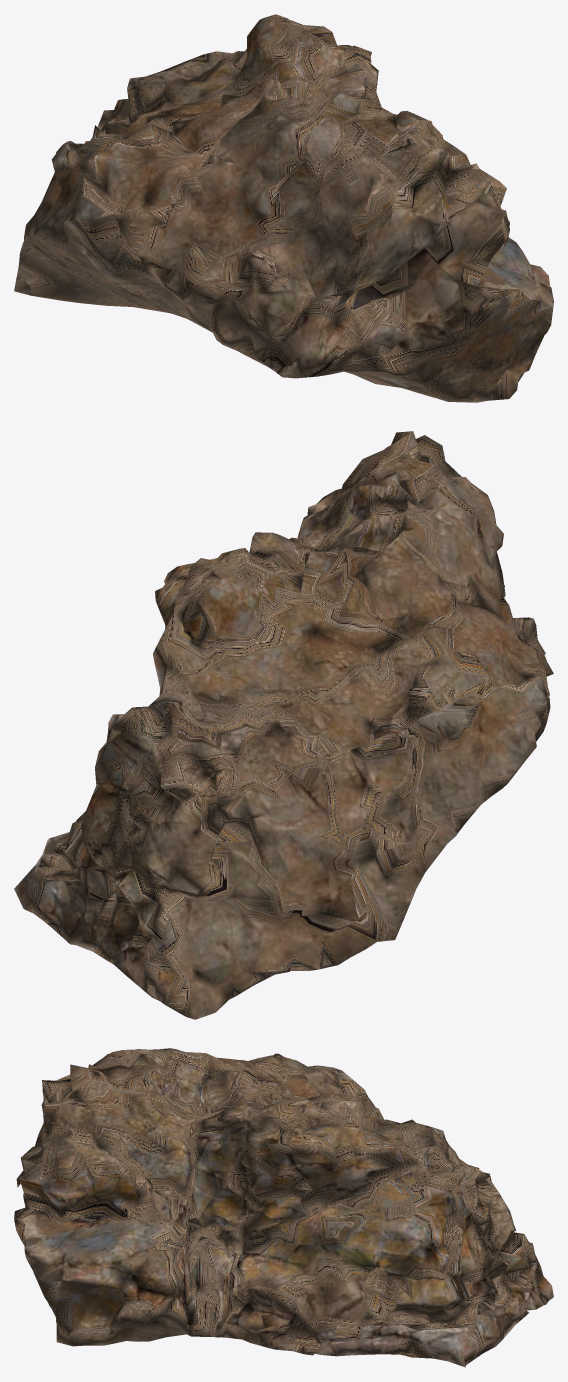
Rendered from boulder_01.glb.
The picture shows the model from 3 angles, top to bottom: view 1: azimuth 30°, elevation 25°; view 2: azimuth 150°, elevation 25°; view 3: azimuth 270°, elevation 25°; orthographic projection. The views are drawn at different scales.
Parts seen in each view (by area): view 1: boulder_01; view 2: boulder_01; view 3: boulder_01.
Boxes of the visible parts, x1,y1,x2,y2 form: boulder_01: (14, 14, 553, 402); boulder_01: (14, 431, 553, 1019); boulder_01: (14, 1048, 553, 1367).
Bounding box in the file's own units: 1.26 × 0.9964 × 1.82.
Materials: 1 (1 with a texture image).
